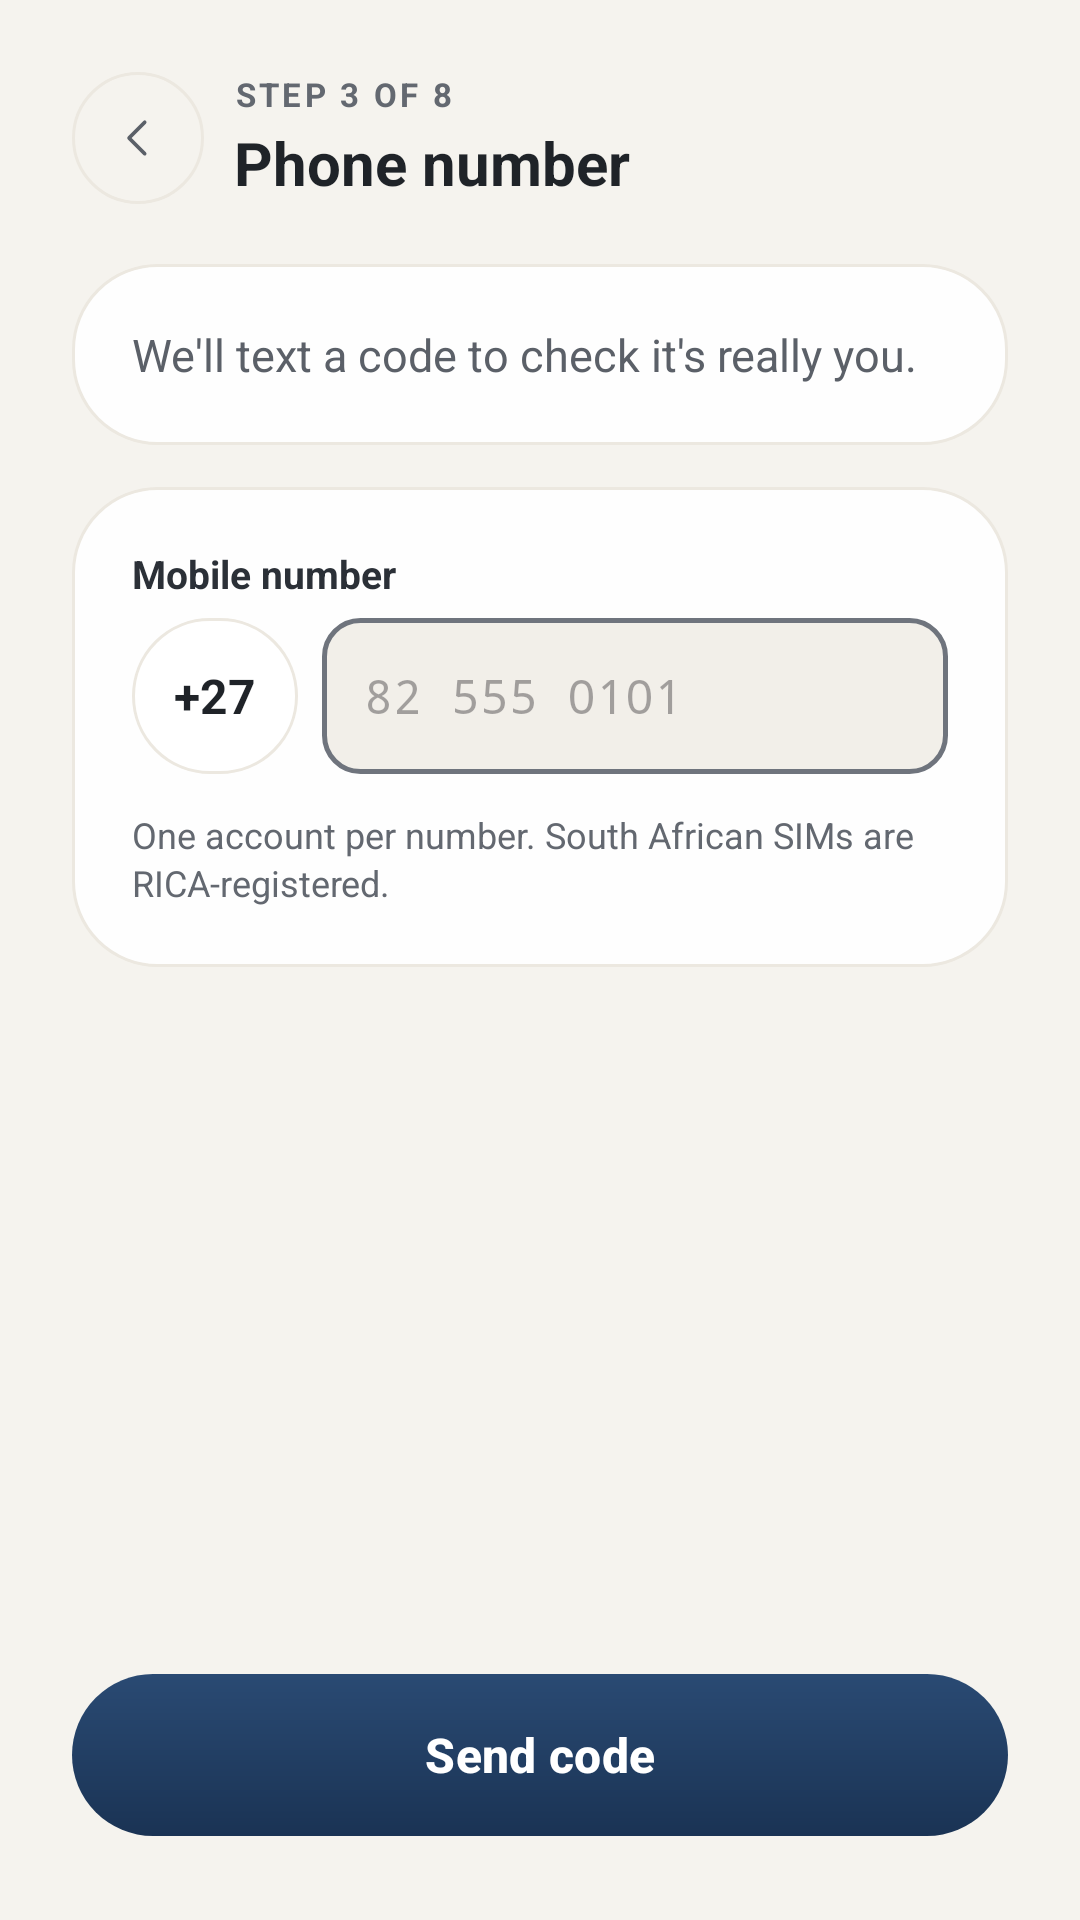

Icons on this 1080 × 1920 Android screen, each with the point to tap as (x=x, y=y):
Back: (x=137, y=138)
